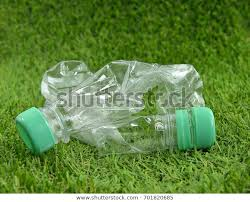plastic_bottle: (17, 56, 219, 164)
